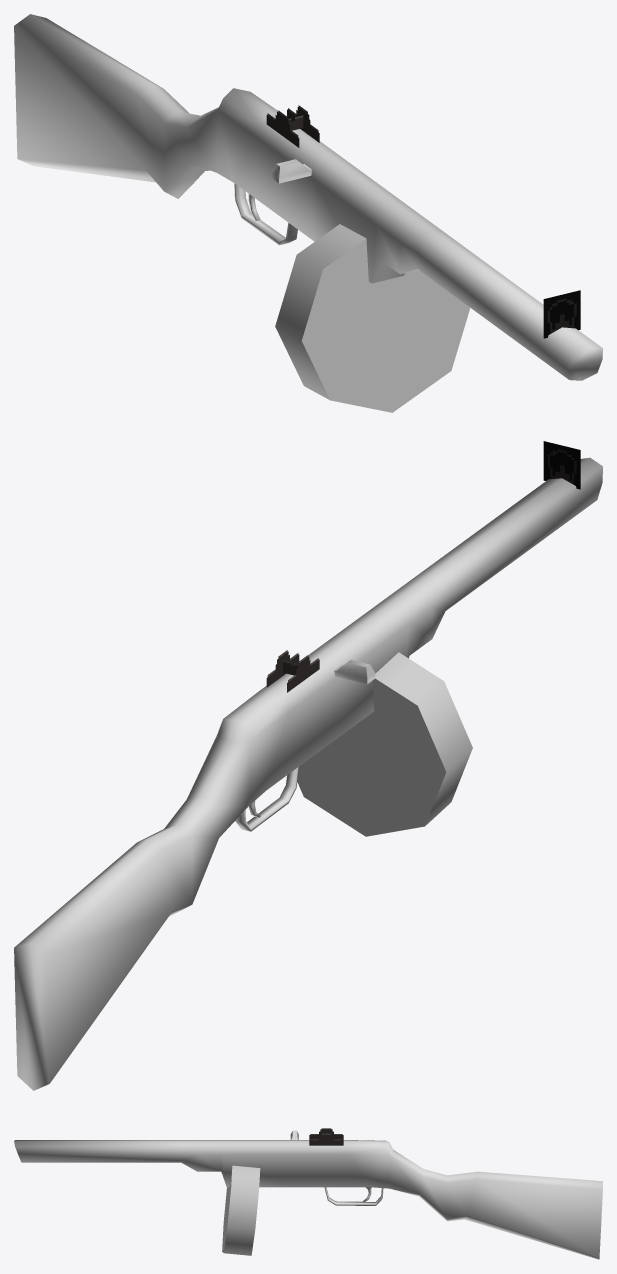
The model's file is PPSH_V_0_4.fbx.
3 views of the same model, one above another, from view 1: azimuth 30°, elevation 25°; view 2: azimuth 150°, elevation 25°; view 3: azimuth 270°, elevation 25° (orthographic). The views are drawn at different scales.
Parts seen in each view (by area): view 1: PPSH, PPSH_Magazine, Shutter; view 2: PPSH, PPSH_Magazine; view 3: PPSH, PPSH_Magazine.
Part boxes in pixels (x1=…): PPSH: x1=14, y1=14, x2=602, y2=380; PPSH_Magazine: x1=275, y1=224, x2=470, y2=412; Shutter: x1=271, y1=159, x2=312, y2=183; PPSH: x1=14, y1=441, x2=602, y2=1090; PPSH_Magazine: x1=297, y1=652, x2=472, y2=836; PPSH: x1=14, y1=1128, x2=602, y2=1259; PPSH_Magazine: x1=222, y1=1165, x2=260, y2=1255.
Size of the model in its own units: 14.81 by 21.36 by 83.91.
